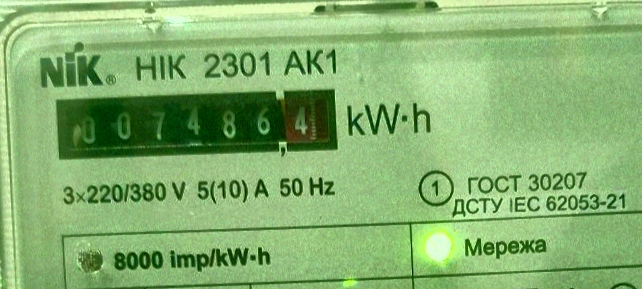0: (77, 111, 98, 145), (113, 107, 133, 141)
4: (182, 101, 202, 137), (290, 102, 309, 137)
6: (253, 103, 274, 136)
7: (145, 107, 170, 141)
8: (219, 106, 238, 142)
screen: (46, 76, 347, 171)
